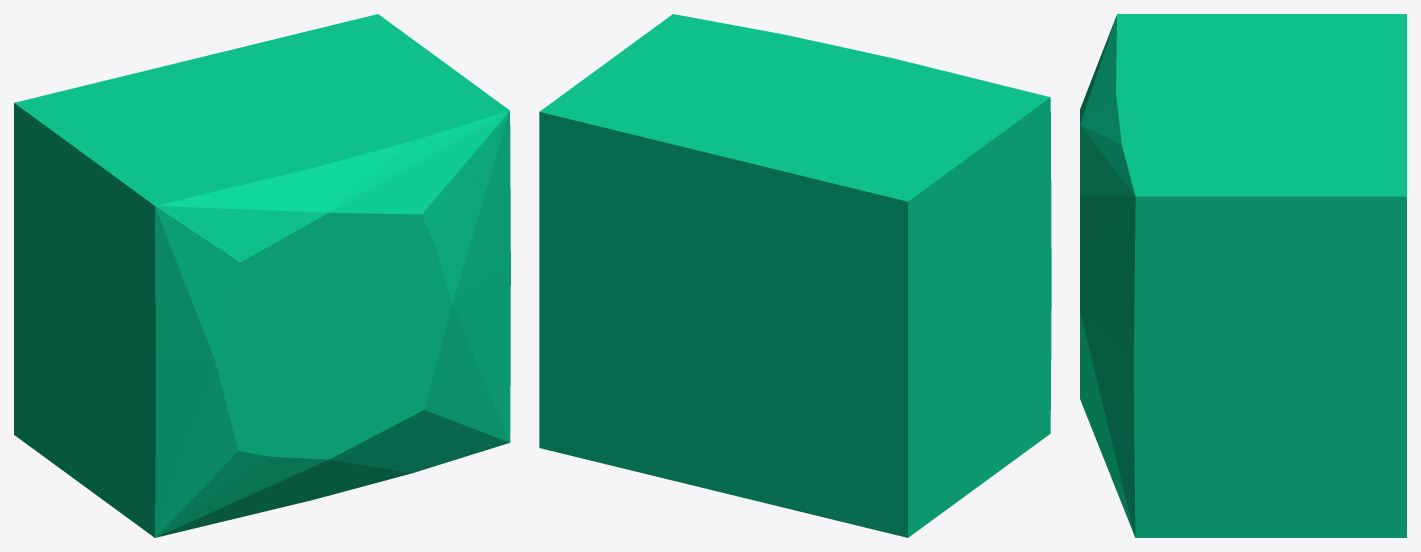
3 views of the same model, side by side, from view 1: azimuth 30°, elevation 25°; view 2: azimuth 150°, elevation 25°; view 3: azimuth 270°, elevation 25° (orthographic). The views are drawn at different scales.
Bounding box in the file's own units: 3.08 × 2.69 × 2.33.
